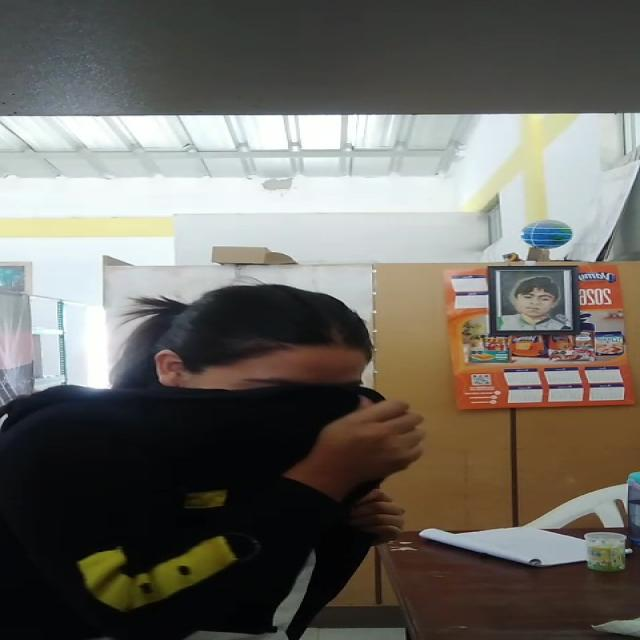8_ropa_rostro: (87, 372, 436, 526)
